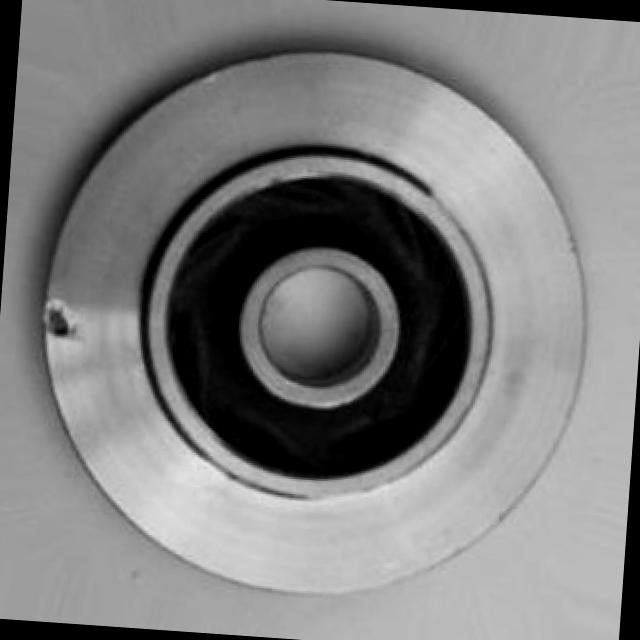Defect: (42, 299, 85, 345)
